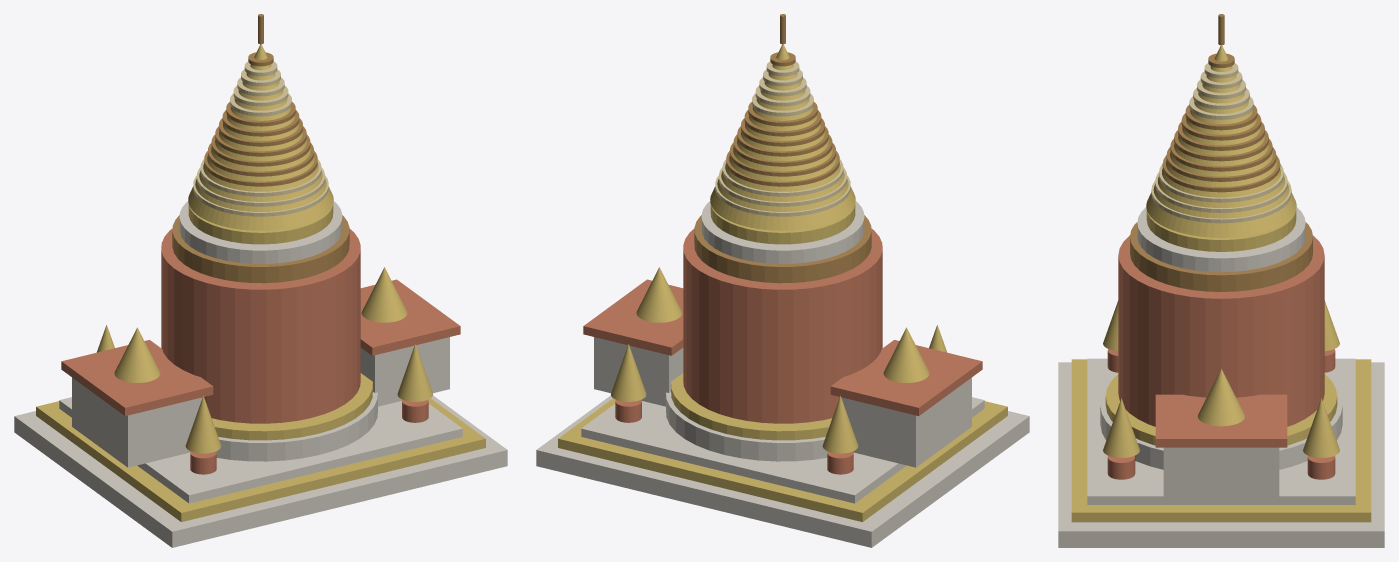
The model's file is wat-chang-hai-stupa.glb.
The picture shows the model from 3 angles, left to right: view 1: azimuth 30°, elevation 25°; view 2: azimuth 150°, elevation 25°; view 3: azimuth 270°, elevation 25°; orthographic projection. The views are drawn at different scales.
Parts seen in each view (by area): view 1: geometry_5, geometry_0, geometry_2, geometry_9, geometry_1, geometry_27, geometry_28, geometry_6, geometry_31, geometry_7, geometry_3, geometry_30 (+15 smaller); view 2: geometry_5, geometry_0, geometry_2, geometry_9, geometry_1, geometry_27, geometry_28, geometry_6, geometry_31, geometry_7, geometry_3, geometry_30 (+15 smaller); view 3: geometry_5, geometry_0, geometry_1, geometry_2, geometry_9, geometry_30, geometry_31, geometry_6, geometry_7, geometry_8, geometry_4, geometry_3 (+20 smaller).
Part boxes in pixels (x1,y1,x2,y2): geometry_5: (161, 228, 360, 423); geometry_0: (14, 395, 507, 547); geometry_2: (59, 397, 462, 503); geometry_9: (188, 44, 333, 230); geometry_1: (36, 398, 485, 521); geometry_27: (72, 377, 202, 467); geometry_28: (61, 340, 213, 416); geometry_6: (172, 215, 349, 283); geometry_31: (360, 279, 460, 355); geometry_7: (179, 201, 342, 263); geometry_3: (216, 392, 377, 461); geometry_30: (360, 337, 449, 406); geometry_5: (683, 228, 882, 423); geometry_0: (536, 395, 1029, 547); geometry_2: (581, 397, 984, 503); geometry_9: (710, 44, 855, 230); geometry_1: (558, 398, 1007, 521); geometry_27: (841, 377, 971, 467); geometry_28: (830, 340, 982, 416); geometry_6: (694, 215, 871, 283); geometry_31: (583, 279, 683, 355); geometry_7: (701, 201, 864, 263); geometry_3: (666, 392, 827, 461); geometry_30: (594, 337, 683, 406); geometry_5: (1118, 235, 1324, 426); geometry_0: (1058, 362, 1384, 547); geometry_1: (1071, 359, 1371, 522); geometry_2: (1087, 358, 1355, 504); geometry_9: (1146, 45, 1296, 237); geometry_30: (1163, 447, 1279, 501); geometry_31: (1155, 394, 1287, 447); geometry_6: (1130, 222, 1312, 291); geometry_7: (1137, 207, 1305, 272); geometry_8: (1146, 210, 1296, 251); geometry_4: (1105, 374, 1337, 445); geometry_3: (1100, 390, 1342, 469).
Bounding box in the file's own units: 0.76 × 0.9395 × 0.62.
